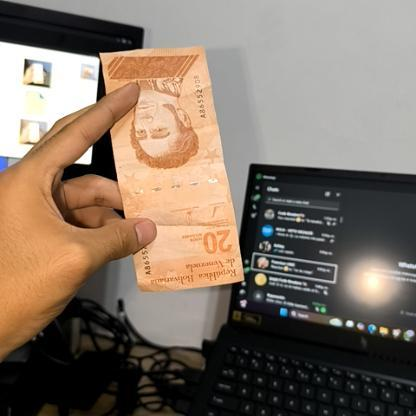twenty-front-vef: (100, 45, 244, 293)
